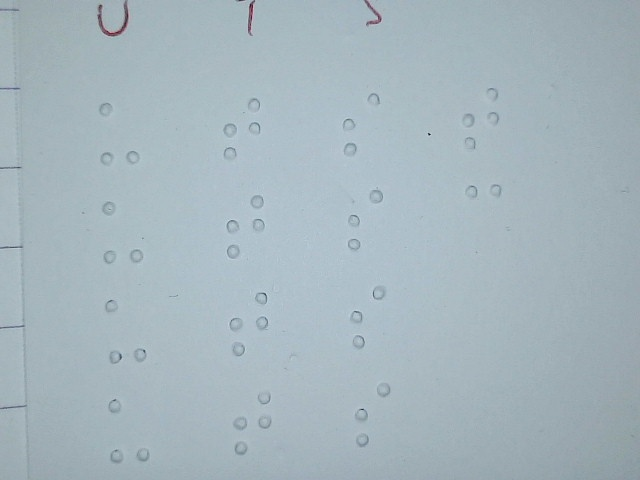S: (339, 90, 382, 157), (345, 185, 385, 251), (348, 283, 388, 349), (353, 381, 393, 447)
T: (221, 95, 264, 162), (223, 191, 266, 258), (227, 290, 270, 357), (230, 389, 273, 456)
U: (104, 296, 149, 364), (106, 396, 151, 464), (98, 100, 141, 167), (101, 198, 144, 265)
